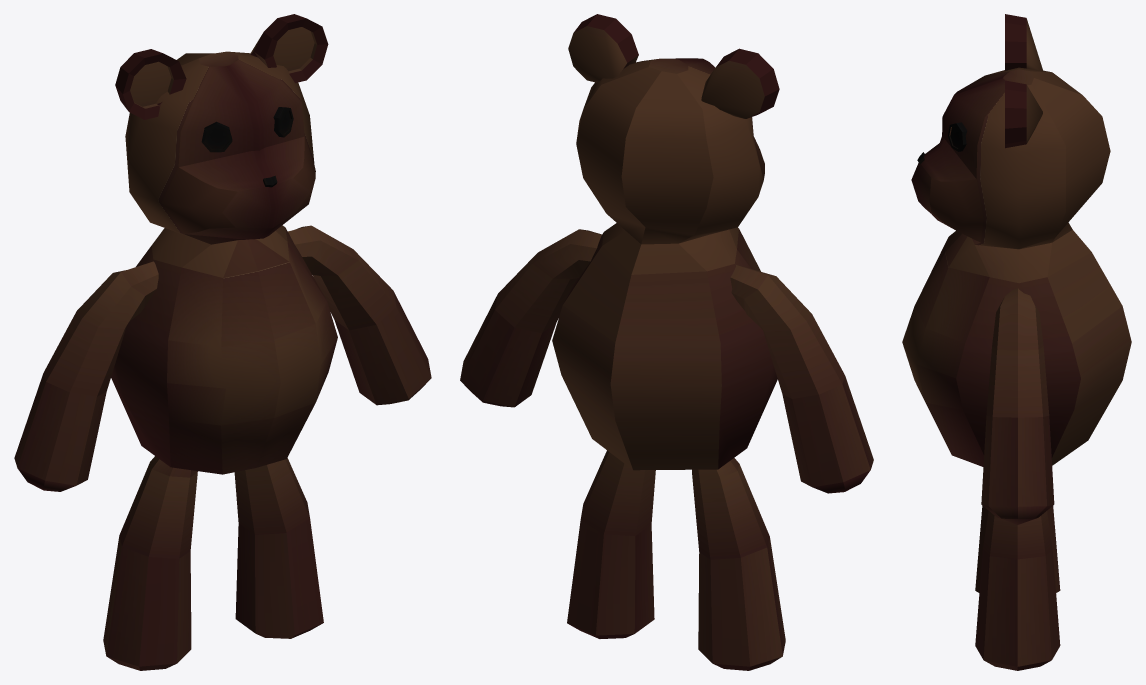
Rendered from teddy_contextura.fbx.
3 renders of one model, left to right at view 1: azimuth 30°, elevation 25°; view 2: azimuth 150°, elevation 25°; view 3: azimuth 270°, elevation 25°, orthographic. The views are drawn at different scales.
Parts seen in each view (by area): view 1: pCylinder14; view 2: pCylinder14; view 3: pCylinder14.
Boxes of the visible parts, x1=… form: pCylinder14: x1=14, y1=14, x2=431, y2=670; pCylinder14: x1=460, y1=14, x2=873, y2=670; pCylinder14: x1=902, y1=14, x2=1131, y2=670.
Size of the model in its own units: 6.84 by 9.76 by 3.48.
